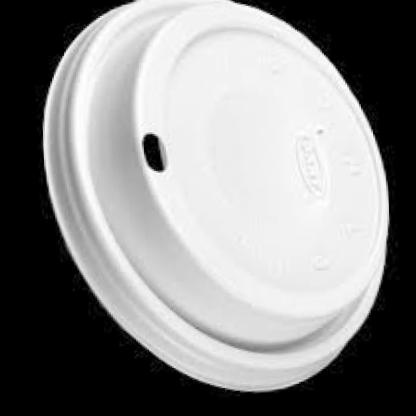trash: (44, 0, 387, 390)
